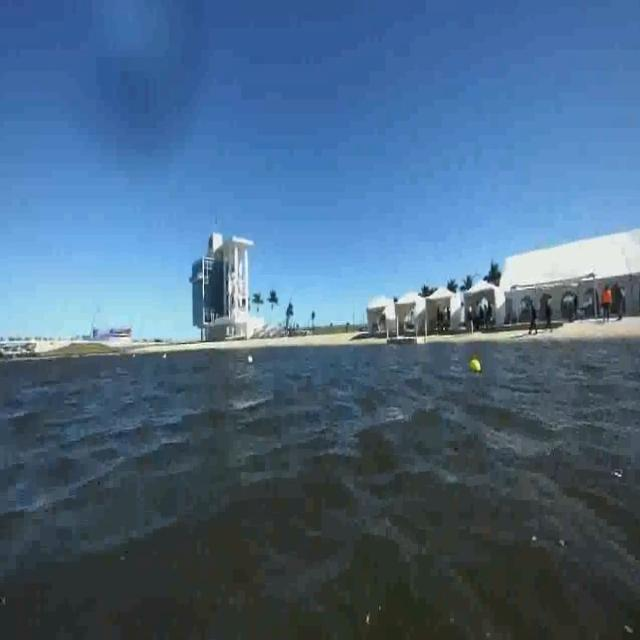yellow-buoy: (469, 356, 481, 373)
